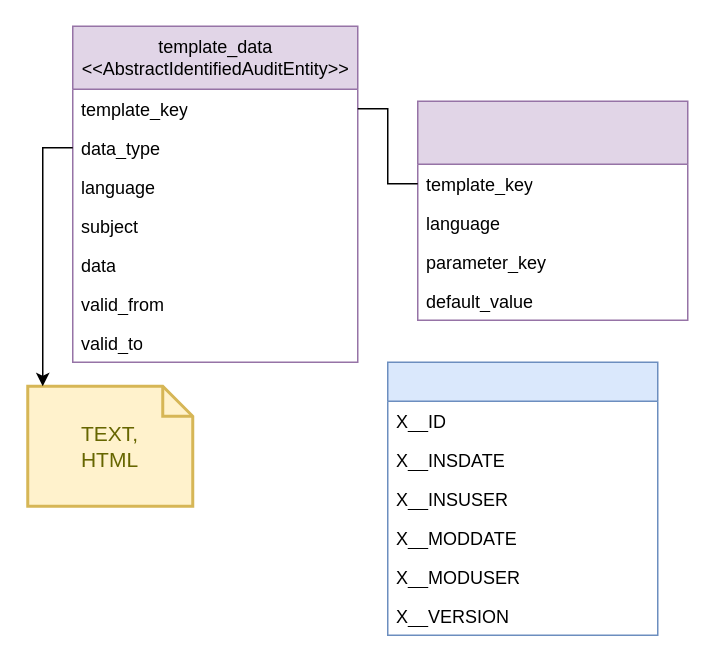
Some shapes in this 714 by 666 pixel diagram are drawn without their labels. Here are the shapes that lost their labels. From the top down, the box of each, then its label:
(416, 100, 688, 320): template_parameter <<AbstractIdentifiedAuditEntity>>
(386, 361, 658, 635): AbstractIdentifiedAuditEntity
